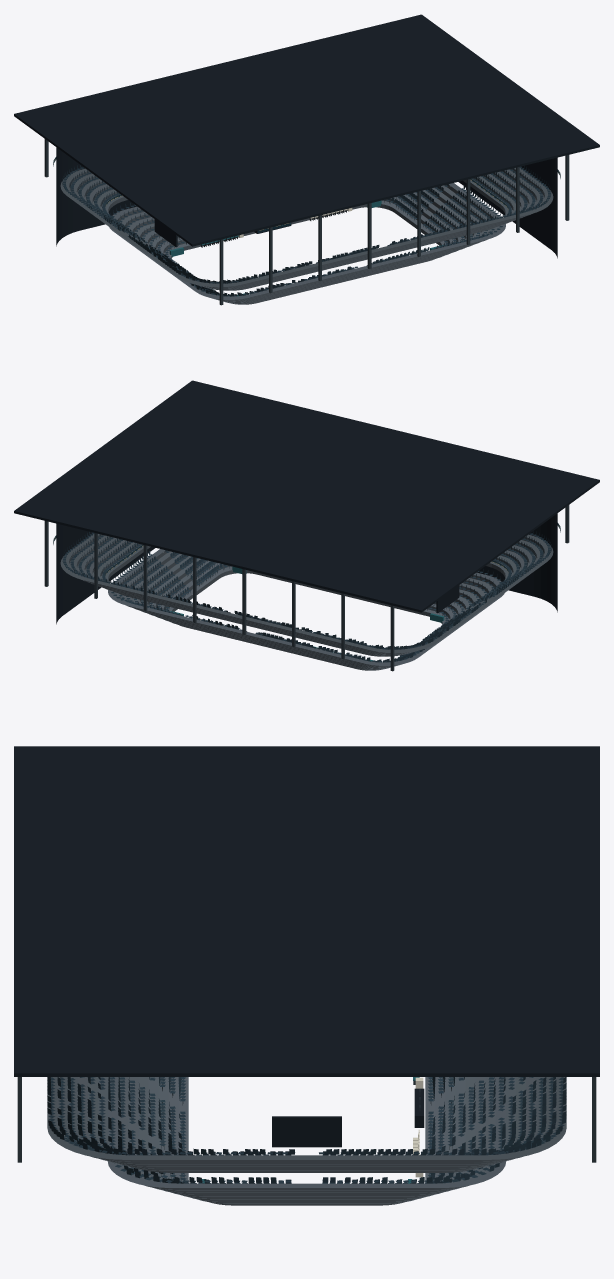
Rendered from arena.glb.
The picture shows the model from 3 angles, top to bottom: view 1: azimuth 30°, elevation 25°; view 2: azimuth 150°, elevation 25°; view 3: azimuth 270°, elevation 25°; orthographic projection. The views are drawn at different scales.
Visible parts, largest first — view 1: roof, stand-treads, seats, stand-risers, arena-shell, roof-columns; view 2: roof, stand-treads, seats, stand-risers, arena-shell, roof-columns; view 3: roof, stand-treads, seats, stand-risers, end-displays, roof-columns.
Boxes of the visible parts, x1=… form: roof: x1=14, y1=14, x2=599, y2=246; stand-treads: x1=60, y1=168, x2=553, y2=304; seats: x1=62, y1=165, x2=551, y2=296; stand-risers: x1=69, y1=168, x2=544, y2=304; arena-shell: x1=56, y1=147, x2=557, y2=258; roof-columns: x1=44, y1=139, x2=569, y2=305; roof: x1=14, y1=380, x2=599, y2=612; stand-treads: x1=60, y1=534, x2=553, y2=670; seats: x1=62, y1=531, x2=551, y2=662; stand-risers: x1=69, y1=534, x2=544, y2=670; arena-shell: x1=56, y1=513, x2=557, y2=624; roof-columns: x1=44, y1=505, x2=569, y2=671; roof: x1=14, y1=746, x2=599, y2=1076; stand-treads: x1=47, y1=1077, x2=566, y2=1203; seats: x1=47, y1=1077, x2=566, y2=1183; stand-risers: x1=93, y1=1157, x2=520, y2=1205; end-displays: x1=272, y1=1116, x2=341, y2=1147; roof-columns: x1=17, y1=1077, x2=596, y2=1162.
Size of the model in its own units: 66 by 19.57 by 50.
Materials: 8 (2 with a texture image).
